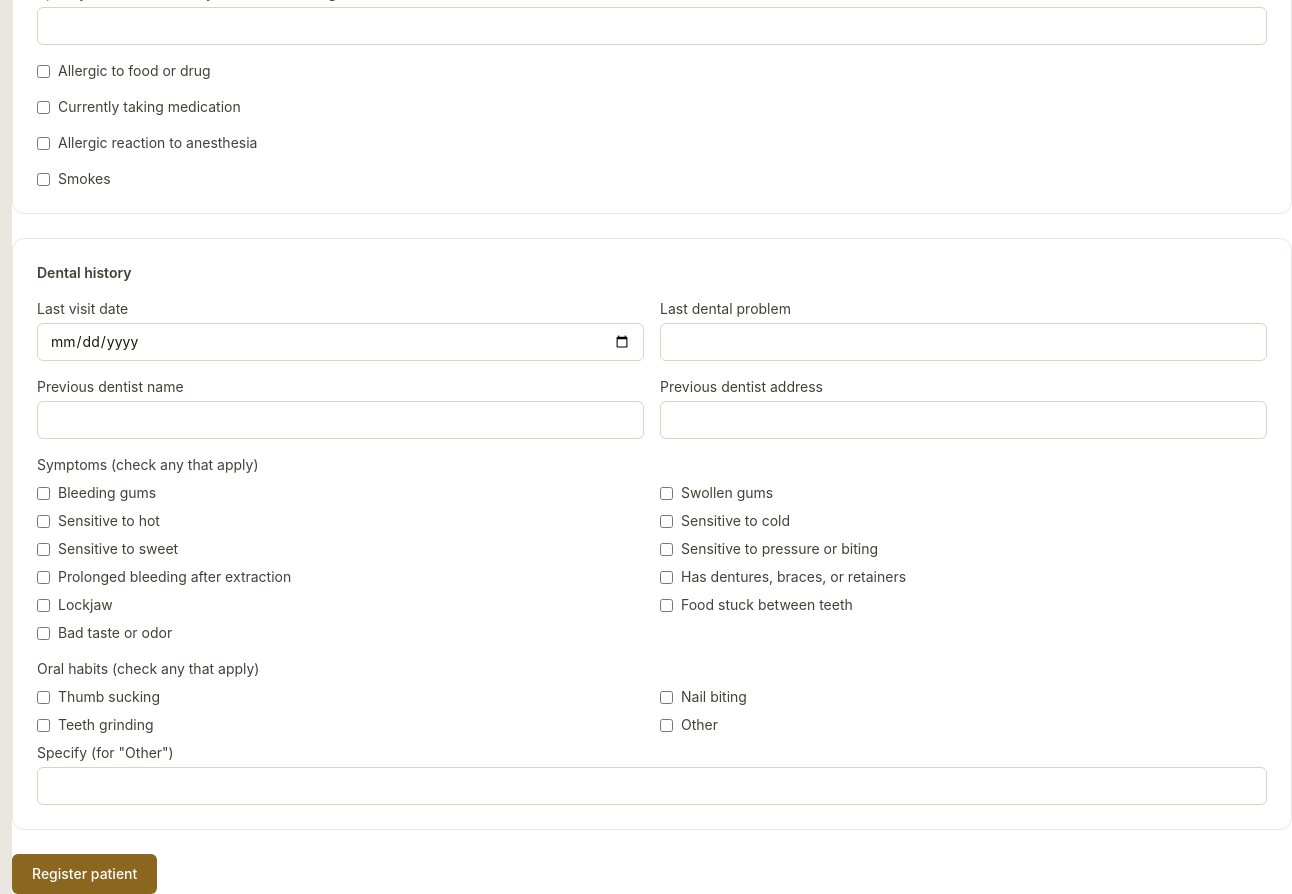
Test: PatientForm › asks for a name and says so when it is missing
(page scrolled)
What coordinates should you click on to do the following:
click the button "Register patient"
I would click on:
 (85, 874)
Its box is [12,854,157,893].
(page scrolled)
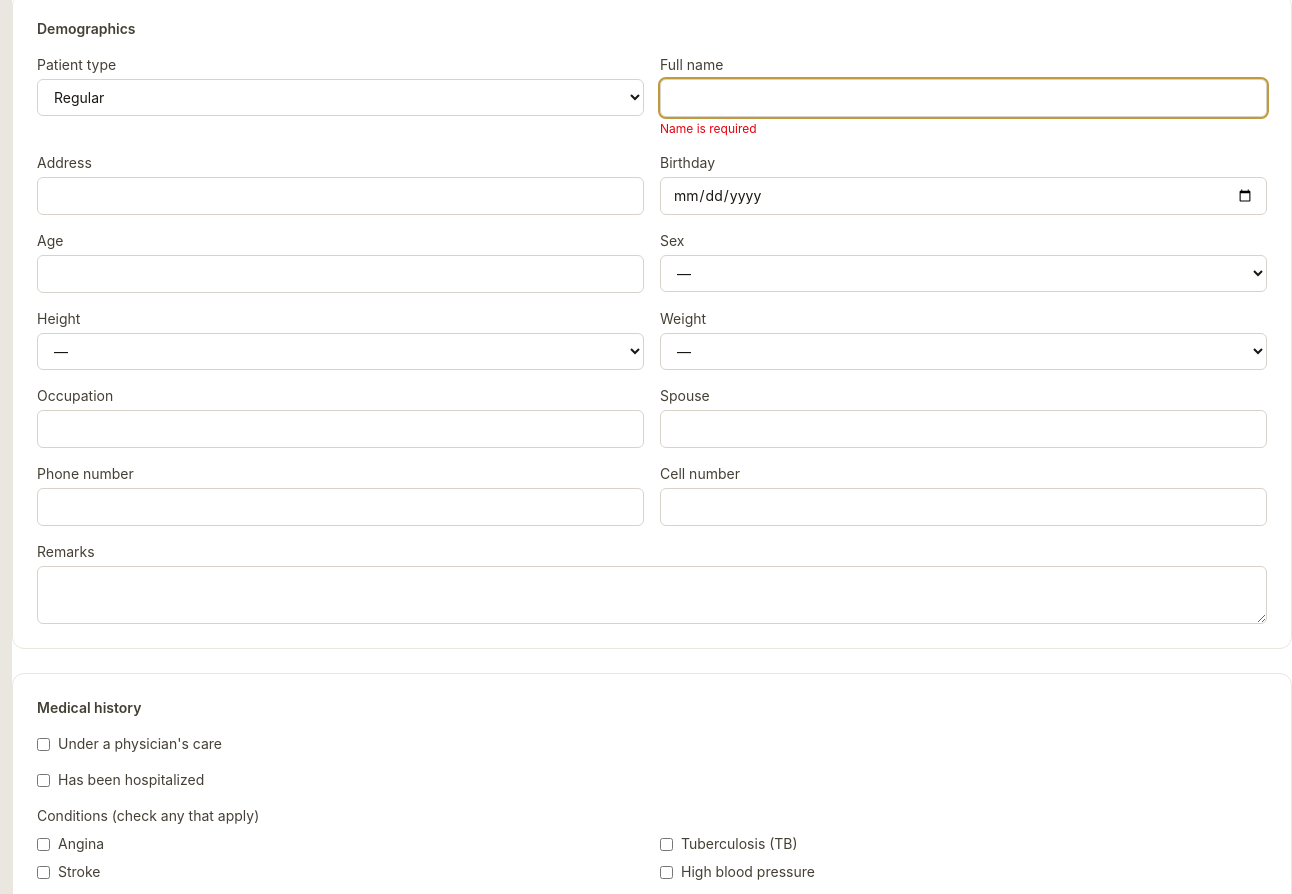
Check: the text "Name is required" is shown, box [660,121,757,136]
